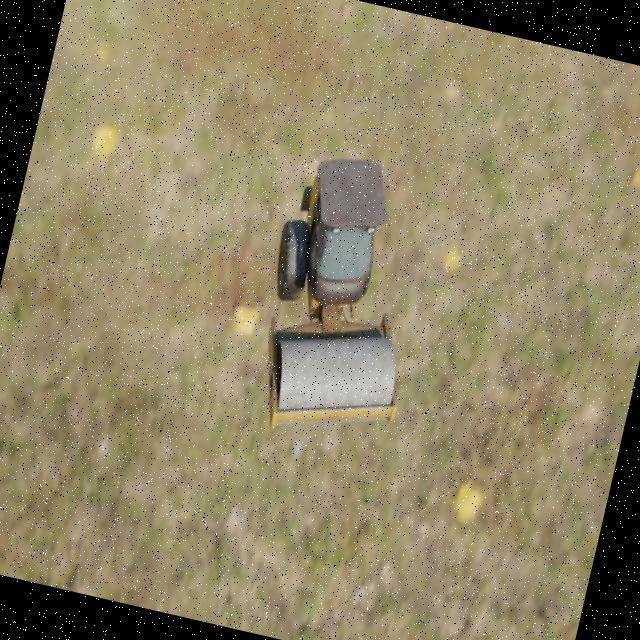Roller: (237, 142, 450, 454)
